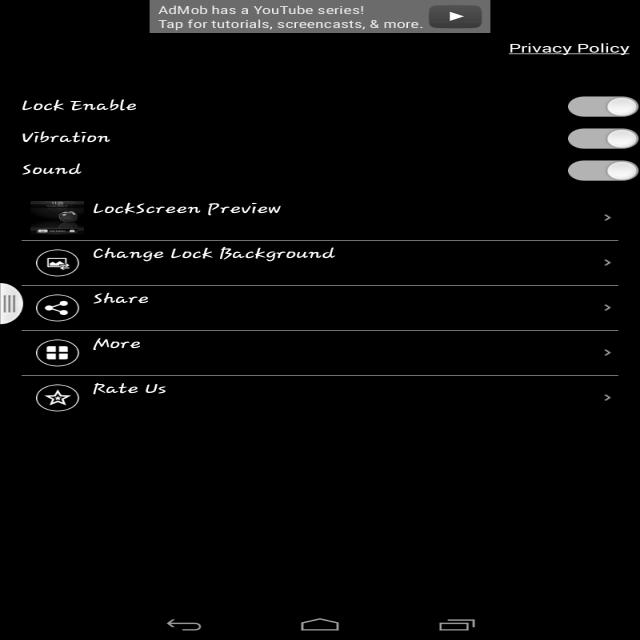Button: (425, 2, 491, 32)
ImageView: (29, 202, 82, 232), (34, 379, 80, 409), (38, 248, 80, 280), (30, 339, 76, 363)
Switch: (558, 157, 636, 183), (564, 91, 634, 119), (559, 126, 637, 150)
TextView: (152, 2, 405, 34), (90, 245, 350, 263), (90, 199, 296, 219), (16, 94, 146, 116), (499, 38, 626, 59), (15, 127, 125, 147), (12, 160, 108, 178), (90, 379, 180, 397), (94, 289, 160, 309), (93, 336, 146, 353)
